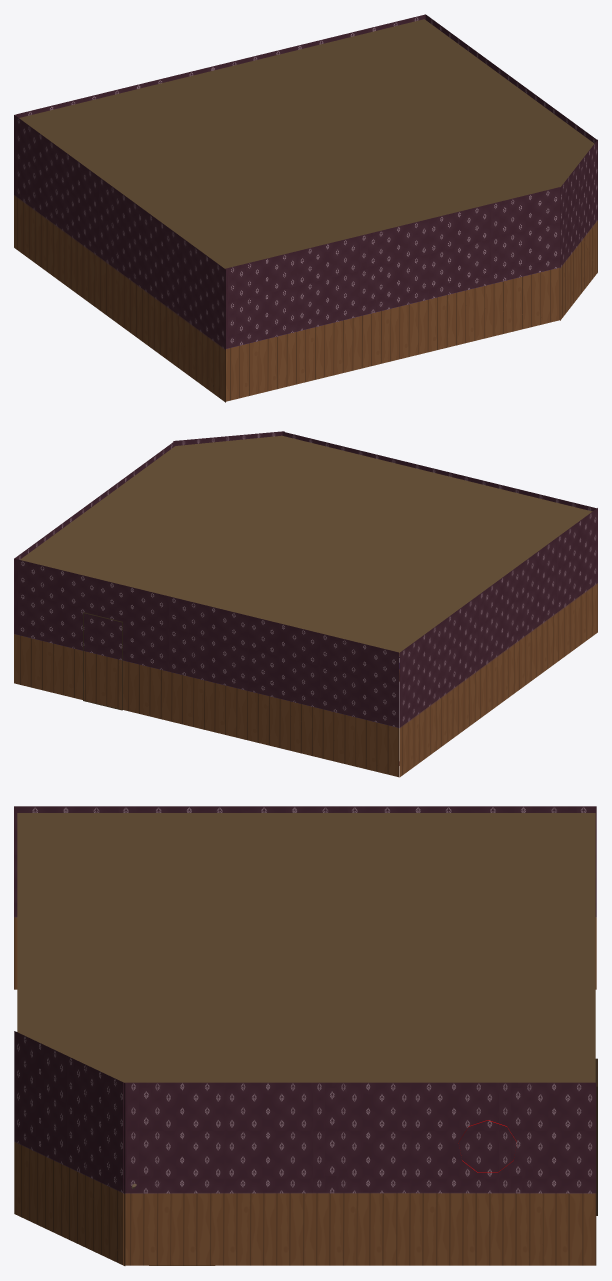
The model's file is WizPong SceneV3.fbx.
3 views of the same model, one above another, from view 1: azimuth 30°, elevation 25°; view 2: azimuth 150°, elevation 25°; view 3: azimuth 270°, elevation 25° (orthographic). The views are drawn at different scales.
Visible parts, largest first — view 1: Ceiling, Wall3, Wall4, Wall, Wall2, Wall1; view 2: Ceiling, Wall2, Wall4, Wall3, Wall1, Wall; view 3: Ceiling, Wall1, Wall, Wall4.
Boxes of the visible parts, <box> form: Ceiling: <box>19,19,594,268</box>; Wall3: <box>225,187,560,401</box>; Wall4: <box>14,115,225,402</box>; Wall: <box>560,139,597,320</box>; Wall2: <box>15,14,425,117</box>; Wall1: <box>425,14,597,272</box>; Ceiling: <box>20,435,592,655</box>; Wall2: <box>14,558,398,777</box>; Wall4: <box>399,508,597,777</box>; Wall3: <box>282,431,596,511</box>; Wall1: <box>14,441,174,682</box>; Wall: <box>173,431,284,445</box>; Ceiling: <box>17,813,595,1082</box>; Wall1: <box>123,1082,596,1265</box>; Wall: <box>14,1031,125,1265</box>; Wall4: <box>14,806,596,989</box>.
Size of the model in its own units: 32.02 by 9.83 by 28.4.
